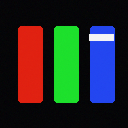3 line_h: (89, 34, 113, 40)
